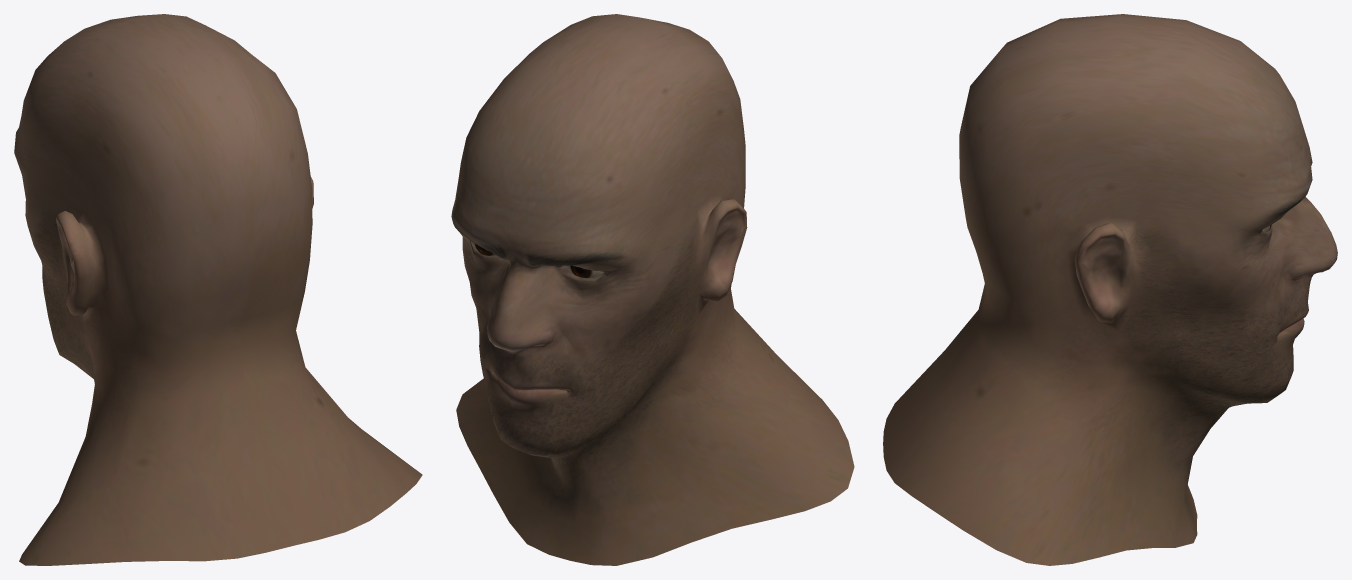
The model's file is G3_Head_Hero_Myrtana_Animated_01_S19.obj.
3 renders of one model, left to right at view 1: azimuth 30°, elevation 25°; view 2: azimuth 150°, elevation 25°; view 3: azimuth 270°, elevation 25°, orthographic.
Parts seen in each view (by area): view 1: G3_Animation_Head_Main_01; view 2: G3_Animation_Head_Main_01; view 3: G3_Animation_Head_Main_01.
Part boxes in pixels (left/top/right/bottom): G3_Animation_Head_Main_01: left=14, top=14, right=422, bottom=565; G3_Animation_Head_Main_01: left=451, top=14, right=854, bottom=565; G3_Animation_Head_Main_01: left=883, top=14, right=1337, bottom=565.
Size of the model in its own units: 0.2618 by 0.3237 by 0.2669.
